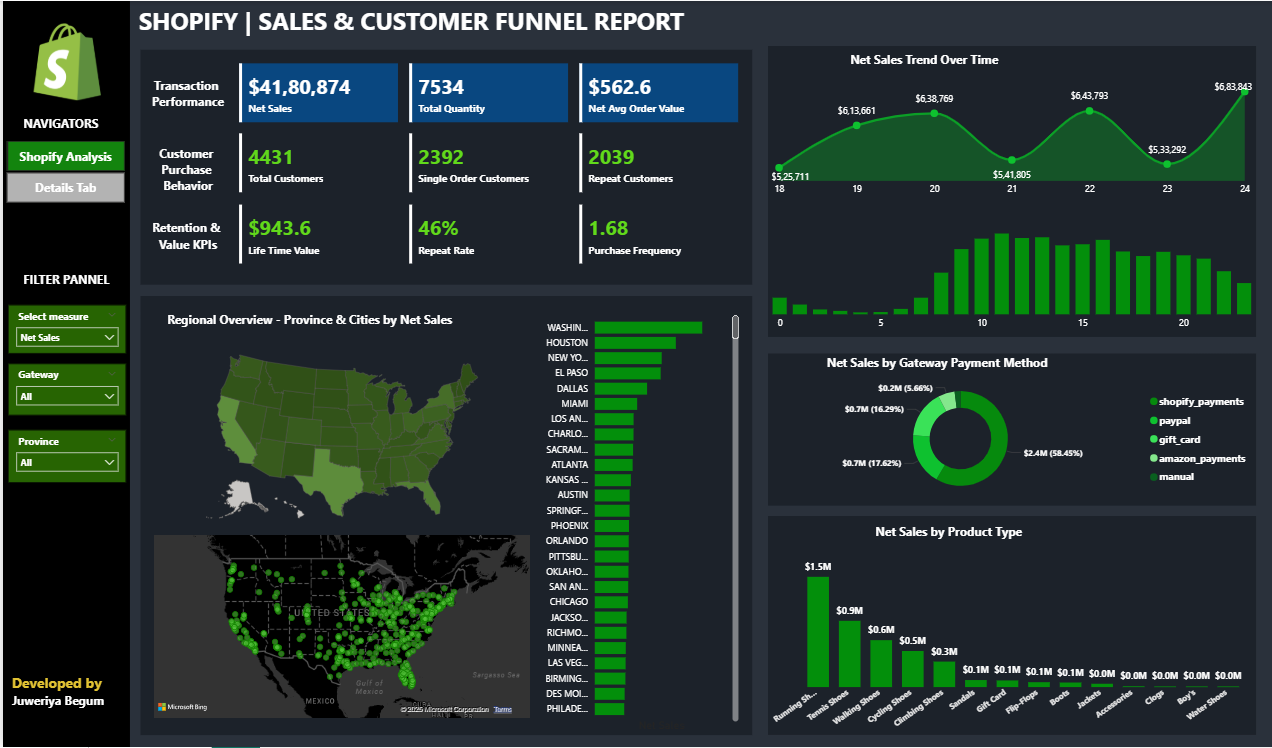

This screenshot's page, from the dashboard's own definition file:
{"tool":"powerbi","page":{"name":"Shopify Analysis","canvas":[1700,1000],"ordinal":0},"visuals":[{"type":"shape","box":[0,0,170,1000.5],"z":0,"group":"g6"},{"type":"textbox","box":[169.5,0,756.3,65.6],"z":0,"group":"g7"},{"type":"group","id":"g1","title":"Group 1","box":[1026.1,60.1,654.3,390],"z":1000,"group":"g7"},{"type":"shape","box":[184.1,65.6,820,315],"z":2000,"group":"g5"},{"type":"slicer","fields":{"Values":["Select measure.Select measure"]},"box":[7.3,406.4,158.6,65.6],"z":2000,"group":"g6"},{"type":"group","id":"g2","title":"Group 2","box":[1026.1,472,654.3,204.1],"z":2000,"group":"g7"},{"type":"actionButton","box":[0,0,100,40],"z":3000},{"type":"cardVisual","fields":{"Data":["shopify_sales.Net Sales","shopify_sales.Total Quantity","shopify_sales.Net Avg Order Value"]},"box":[311.7,78.4,679.8,89.3],"z":3000,"group":"g5"},{"type":"group","id":"g3","title":"Group 3","box":[1026.1,696.2,654.3,288],"z":3000,"group":"g7"},{"type":"card","fields":{"Values":["shopify_sales.Transaction perf"]},"box":[184.1,83.8,127.6,78.4],"z":4000,"group":"g5"},{"type":"group","id":"g4","title":"Group 4","box":[184.1,395.5,820.1,588.7],"z":4000,"group":"g7"},{"type":"shape","box":[1026.1,690.7,654.3,293.4],"z":4000},{"type":"image","box":[21.9,25.5,129.4,113],"z":5000,"group":"g6"},{"type":"group","id":"g5","title":"Group 5","box":[184.1,65.6,820,315],"z":5000,"group":"g7"},{"type":"cardVisual","fields":{"Data":["shopify_sales.Total Customers","shopify_sales.Single Order Customer","shopify_sales.Repeat Customers"]},"box":[311.7,173.1,679.8,89.3],"z":5000,"group":"g5"},{"type":"group","id":"g6","title":"Group 6","box":[0,0,170,1000.5],"z":6000,"group":"g7"},{"type":"card","fields":{"Values":["shopify_sales.Customer purches behavior"]},"box":[184.1,178.6,127.6,89.3],"z":6000,"group":"g5"},{"type":"slicer","fields":{"Values":["shopify_sales.Gateway"]},"box":[7.3,486.6,158.6,69.3],"z":6000,"group":"g6"},{"type":"cardVisual","fields":{"Data":["shopify_sales.Life Time Value","shopify_sales.Repeat Rate","shopify_sales.Purchase Frequency"]},"box":[311.7,267.9,679.8,89.3],"z":7000,"group":"g5"},{"type":"slicer","fields":{"Values":["shopify_sales.Billing Address Province"]},"box":[7.3,574.1,158.6,71.1],"z":7000,"group":"g6"},{"type":"pageNavigator","box":[5.5,187.7,158.6,82],"z":8000,"group":"g6"},{"type":"card","fields":{"Values":["shopify_sales.Retention & Value KPIs"]},"box":[184.1,269.7,127.6,89.3],"z":8000,"group":"g5"},{"type":"card","fields":{"Values":["shopify_sales.NA"]},"box":[7.3,149.4,142.2,34.6],"z":9000,"group":"g6"},{"type":"shape","box":[184.1,395.5,820.1,588.7],"z":9000,"group":"g4"},{"type":"card","fields":{"Values":["shopify_sales.FP"]},"box":[7.3,357.2,156.7,38.3],"z":10000,"group":"g6"},{"type":"shapeMap","fields":{"Value":["shopify_sales.Net Sales"],"Category":["shopify_sales.Billing Address Province"]},"box":[196.9,457.5,513.9,253.3],"z":10000,"group":"g4"},{"type":"textbox","box":[7.3,896.7,156.7,69.3],"z":11000,"group":"g6"},{"type":"clusteredBarChart","fields":{"Y":["shopify_sales.Net Sales"],"Category":["shopify_sales.CITY"]},"box":[710.8,408.3,280.7,575.9],"z":12000,"group":"g4"},{"type":"map","fields":{"Category":["shopify_sales.Location"]},"box":[196.9,710.8,513.9,255.1],"z":13000,"group":"g4"},{"type":"card","fields":{"Values":["shopify_sales.Map Title"]},"box":[184.1,408.3,453.8,41.9],"z":15000,"group":"g4"},{"type":"shape","box":[1026.1,60.1,654.3,390],"z":16000,"group":"g1"},{"type":"group","id":"g7","title":"Group 7","box":[0,0,1680.3,1000.5],"z":16002},{"type":"areaChart","fields":{"Y":["shopify_sales.Net Sales"],"Category":["shopify_sales.Invoice Date.Variation.Date Hierarchy.Day"]},"box":[1026.1,96.5,654.3,173.1],"z":17000,"group":"g1"},{"type":"columnChart","fields":{"Y":["shopify_sales.Net Sales"],"Category":["shopify_sales.Hour"]},"box":[1026.1,269.7,654.3,180.4],"z":18000,"group":"g1"},{"type":"card","fields":{"Values":["shopify_sales.Trend Title"]},"box":[1026.1,65.6,419.2,31],"z":19000,"group":"g1"},{"type":"shape","box":[1026.1,472,654.3,204.1],"z":20000,"group":"g2"},{"type":"donutChart","fields":{"Y":["shopify_sales.Net Sales"],"Category":["shopify_sales.Gateway"]},"box":[1026.1,501.2,654.3,171.3],"z":21000,"group":"g2"},{"type":"card","fields":{"Values":["shopify_sales.Gateway Title"]},"box":[1026.1,472,453.8,29.2],"z":22000,"group":"g2"},{"type":"columnChart","fields":{"Y":["shopify_sales.Net Sales"],"Category":["shopify_sales.Product Type"]},"box":[1026.1,730.8,654.3,253.3],"z":24000,"group":"g3"},{"type":"card","fields":{"Values":["shopify_sales.Product Title"]},"box":[1026.1,696.2,484.8,34.6],"z":25000,"group":"g3"}]}

Visuals, with their boxes on the page's 1700x1000 design canvas (x1, y1, x2, y2). These are canvas units, not pixel positions in the 1272x748 screenshot, which may show the page scaled, cropped or inside an application window:
shape: (0, 0, 170, 1000)
textbox: (170, 0, 926, 66)
"Group 1" group: (1026, 60, 1680, 450)
shape: (184, 66, 1004, 381)
slicer - Select measure.Select measure: (7, 406, 166, 472)
"Group 2" group: (1026, 472, 1680, 676)
actionButton: (0, 0, 100, 40)
cardVisual - shopify_sales.Net Sales x shopify_sales.Total Quantity: (312, 78, 992, 168)
"Group 3" group: (1026, 696, 1680, 984)
card - shopify_sales.Transaction perf: (184, 84, 312, 162)
"Group 4" group: (184, 396, 1004, 984)
shape: (1026, 691, 1680, 984)
image: (22, 26, 151, 138)
"Group 5" group: (184, 66, 1004, 381)
cardVisual - shopify_sales.Total Customers x shopify_sales.Single Order Customer: (312, 173, 992, 262)
"Group 6" group: (0, 0, 170, 1000)
card - shopify_sales.Customer purches behavior: (184, 179, 312, 268)
slicer - shopify_sales.Gateway: (7, 487, 166, 556)
cardVisual - shopify_sales.Life Time Value x shopify_sales.Repeat Rate: (312, 268, 992, 357)
slicer - shopify_sales.Billing Address Province: (7, 574, 166, 645)
pageNavigator: (6, 188, 164, 270)
card - shopify_sales.Retention & Value KPIs: (184, 270, 312, 359)
card - shopify_sales.NA: (7, 149, 150, 184)
shape: (184, 396, 1004, 984)
card - shopify_sales.FP: (7, 357, 164, 396)
shapeMap - shopify_sales.Net Sales x shopify_sales.Billing Address Province: (197, 458, 711, 711)
textbox: (7, 897, 164, 966)
clusteredBarChart - shopify_sales.Net Sales x shopify_sales.CITY: (711, 408, 992, 984)
map - shopify_sales.Location: (197, 711, 711, 966)
card - shopify_sales.Map Title: (184, 408, 638, 450)
shape: (1026, 60, 1680, 450)
"Group 7" group: (0, 0, 1680, 1000)
areaChart - shopify_sales.Net Sales x shopify_sales.Invoice Date.Variation.Date Hierarchy.Day: (1026, 96, 1680, 270)
columnChart - shopify_sales.Net Sales x shopify_sales.Hour: (1026, 270, 1680, 450)
card - shopify_sales.Trend Title: (1026, 66, 1445, 97)
shape: (1026, 472, 1680, 676)
donutChart - shopify_sales.Net Sales x shopify_sales.Gateway: (1026, 501, 1680, 672)
card - shopify_sales.Gateway Title: (1026, 472, 1480, 501)
columnChart - shopify_sales.Net Sales x shopify_sales.Product Type: (1026, 731, 1680, 984)
card - shopify_sales.Product Title: (1026, 696, 1511, 731)
